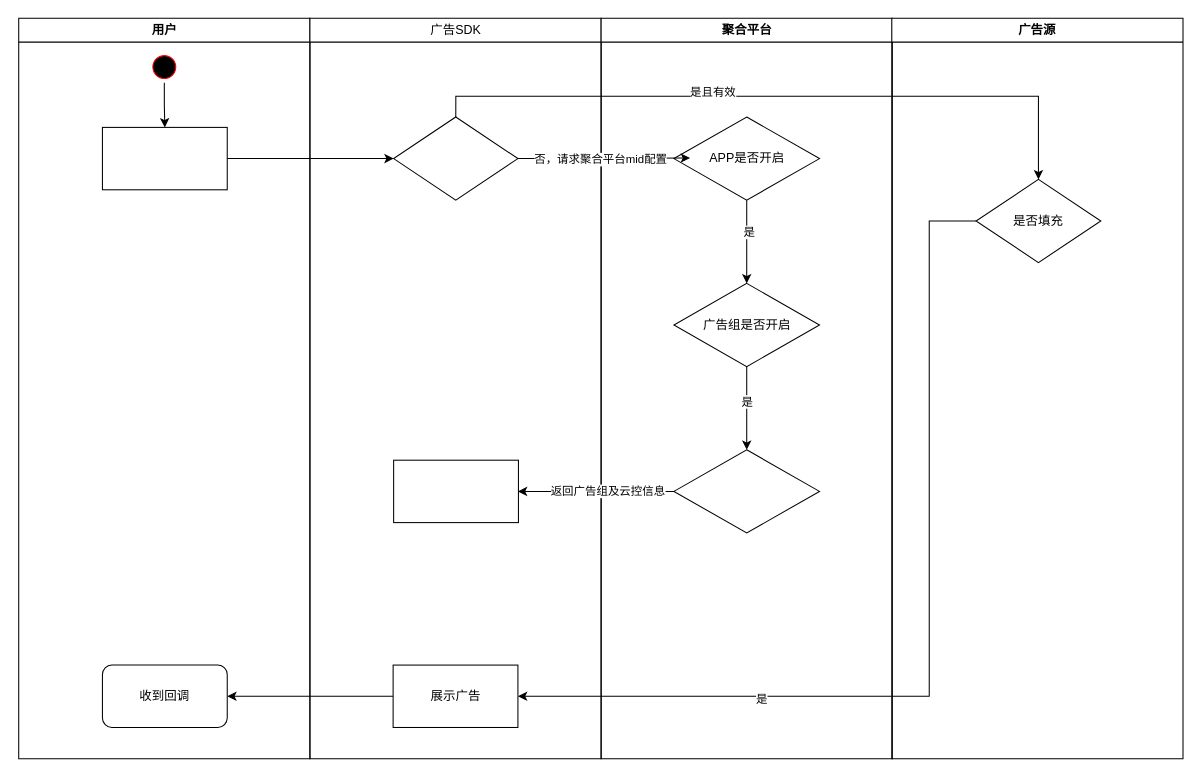
The diagram is 1201 pixels wide and 777 high, and some of its shapes have lost their labels. The shapes that lost their labels are listed below. From the top down, each one's centre as x and y in pixels, then its label:
At (164,158): "请求广告展示 mid、appkey".
At (455,158): "判断mid信息是否缓存".
At (455,491): "请求".
At (746,491): "SID是否开启".
